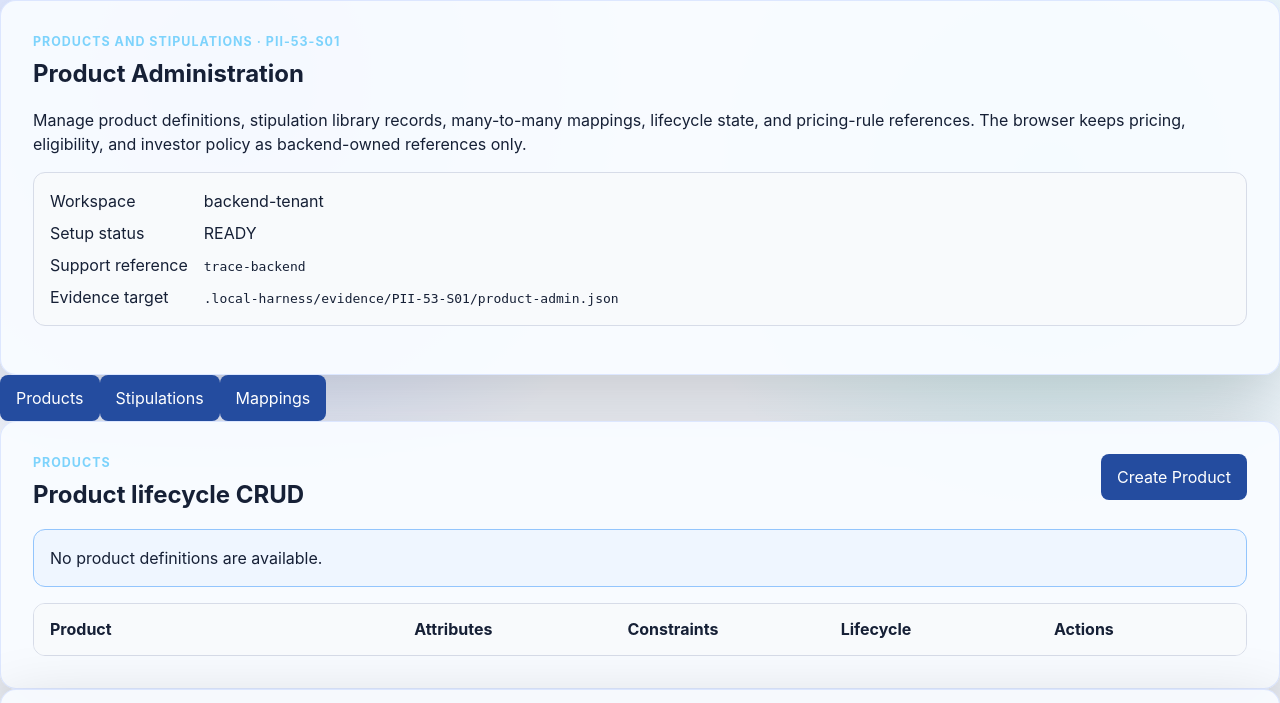
Test: ProductAdminScreen › renders backend-ready and empty states and advances lifecycle without crossing persisted backend boundaries
This screenshot has width=1280, height=703.
Expected: the text "READY" is shown, 204,223 -> 257,243
Expected: the message shows "No product definitions", 50,548 -> 322,568
Click the button "Stipulations" at (160, 398), box 100,375 -> 220,421
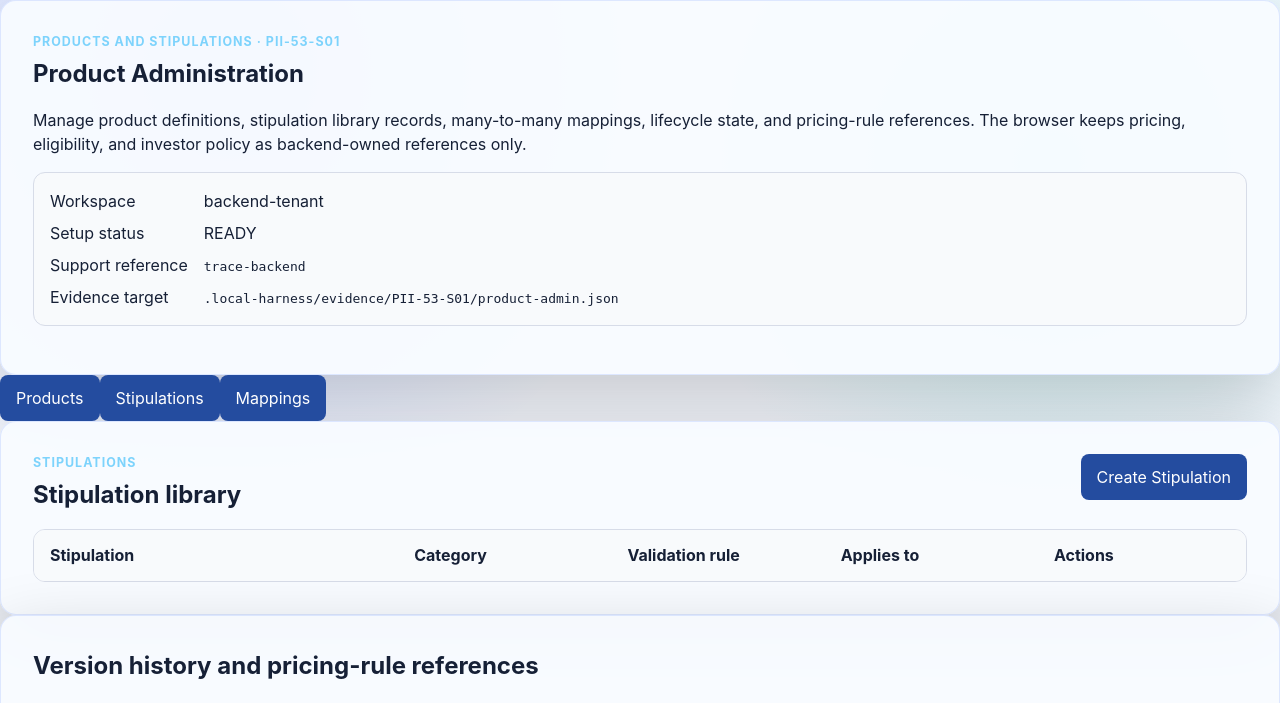
Result: the table named "Stipulation library table" is shown at 33,529 -> 1247,582
Click the button "Mappings" at (273, 398), box 220,375 -> 326,421
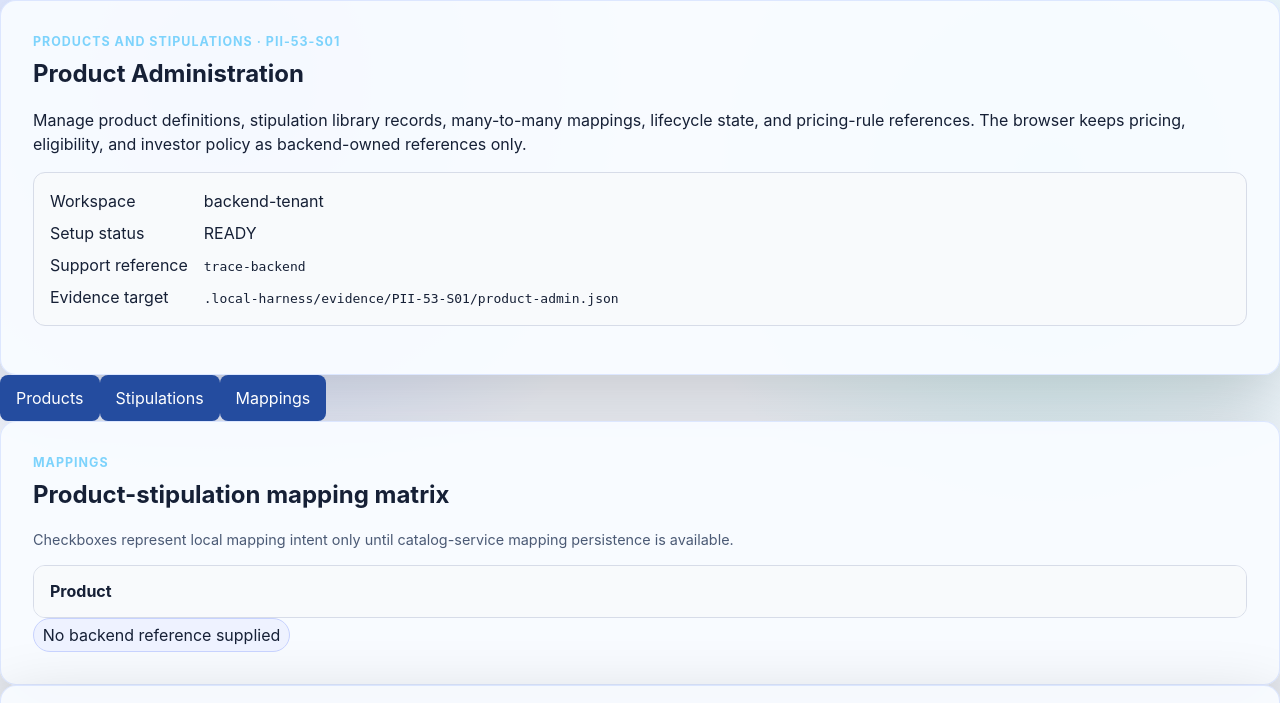
Result: the table named "Product stipulation mapping matrix" is shown at 33,565 -> 1247,618
